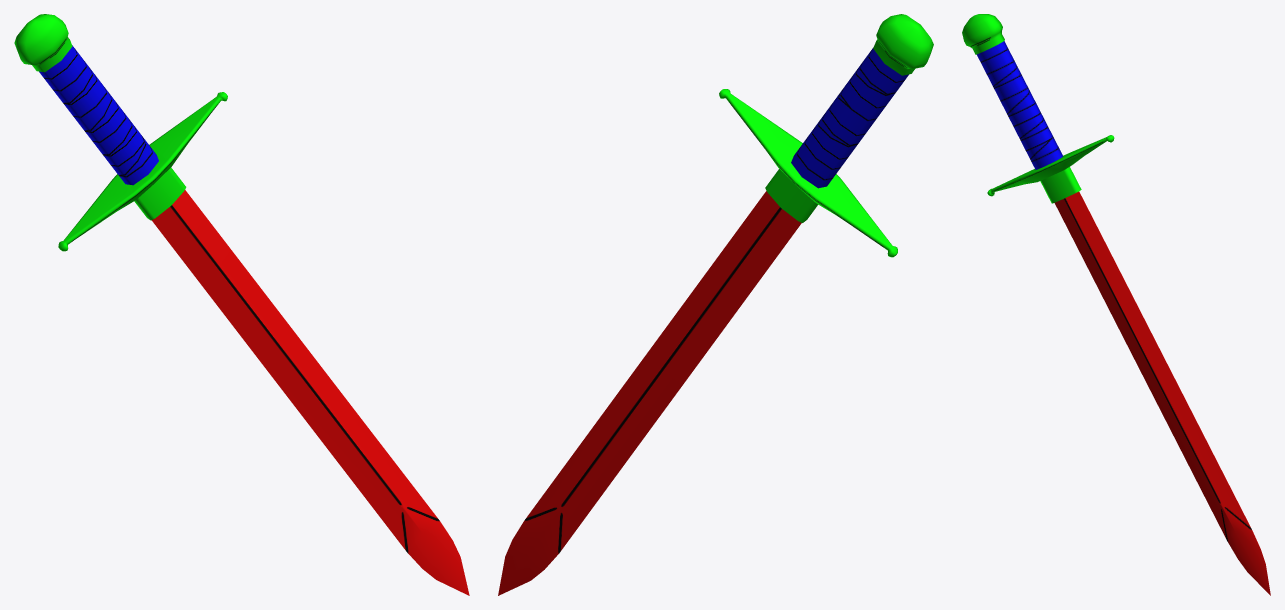
The model's file is sword.fbx.
The picture shows the model from 3 angles, left to right: view 1: azimuth 30°, elevation 25°; view 2: azimuth 150°, elevation 25°; view 3: azimuth 330°, elevation 25°; orthographic projection. The views are drawn at different scales.
Parts seen in each view (by area): view 1: sword_proxy; view 2: sword_proxy; view 3: sword_proxy.
Boxes of the visible parts, x1,y1,x2,y2 form: sword_proxy: [14, 14, 469, 595]; sword_proxy: [498, 14, 933, 595]; sword_proxy: [962, 14, 1270, 595].
Bounding box in the file's own units: 61.42 × 90.2 × 7.81.
